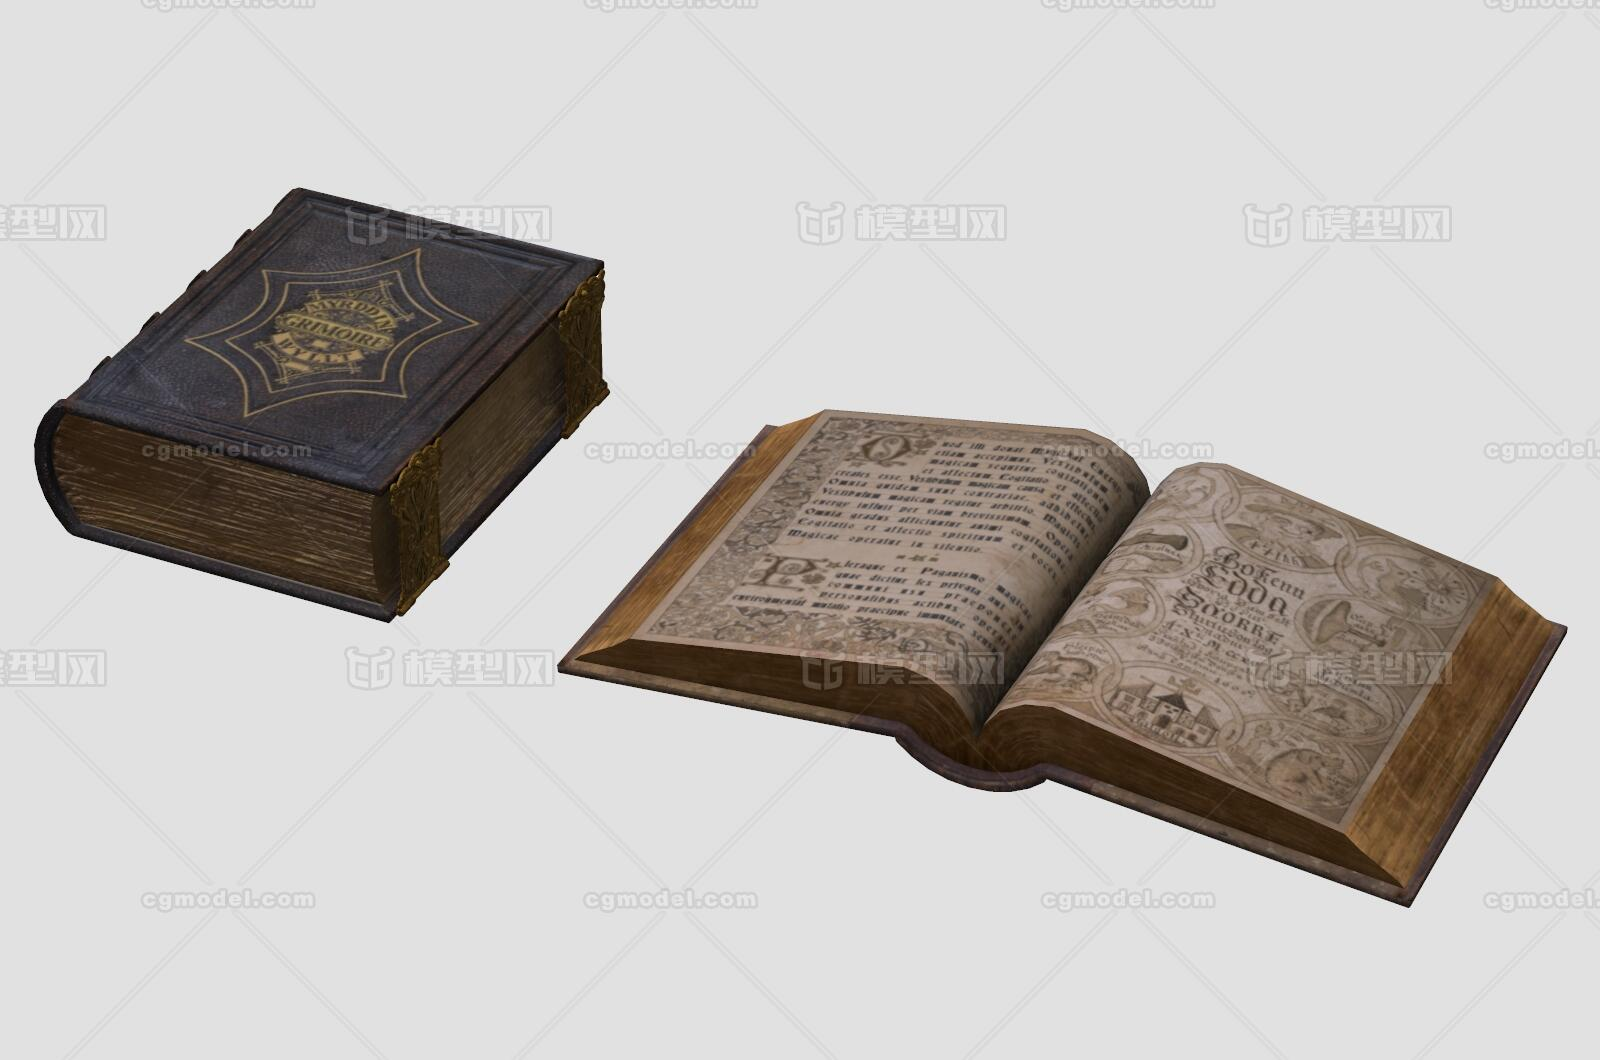book: (524, 356, 1591, 951), (20, 132, 656, 679)
